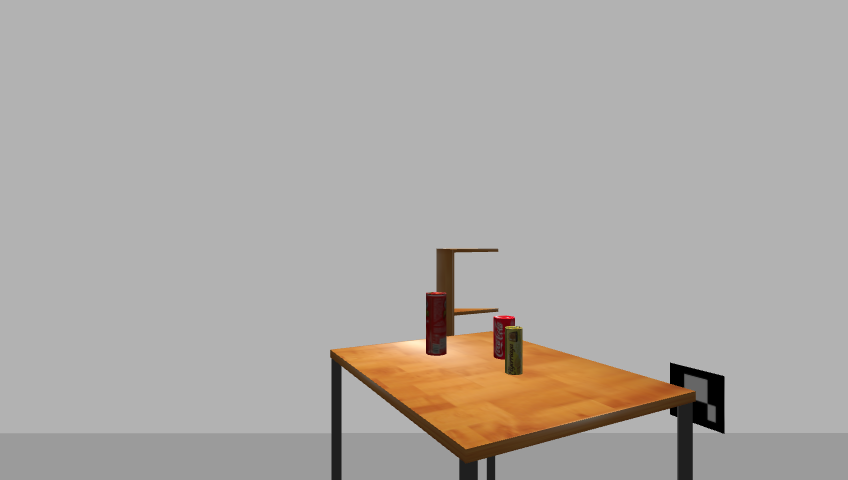aruco marker: (664, 361, 730, 435)
biscuits pack: (506, 327, 524, 376)
bookshelf: (437, 246, 511, 364)
coke can: (491, 316, 514, 361)
dinner table: (324, 333, 702, 480)
pringles can: (424, 292, 449, 356)
